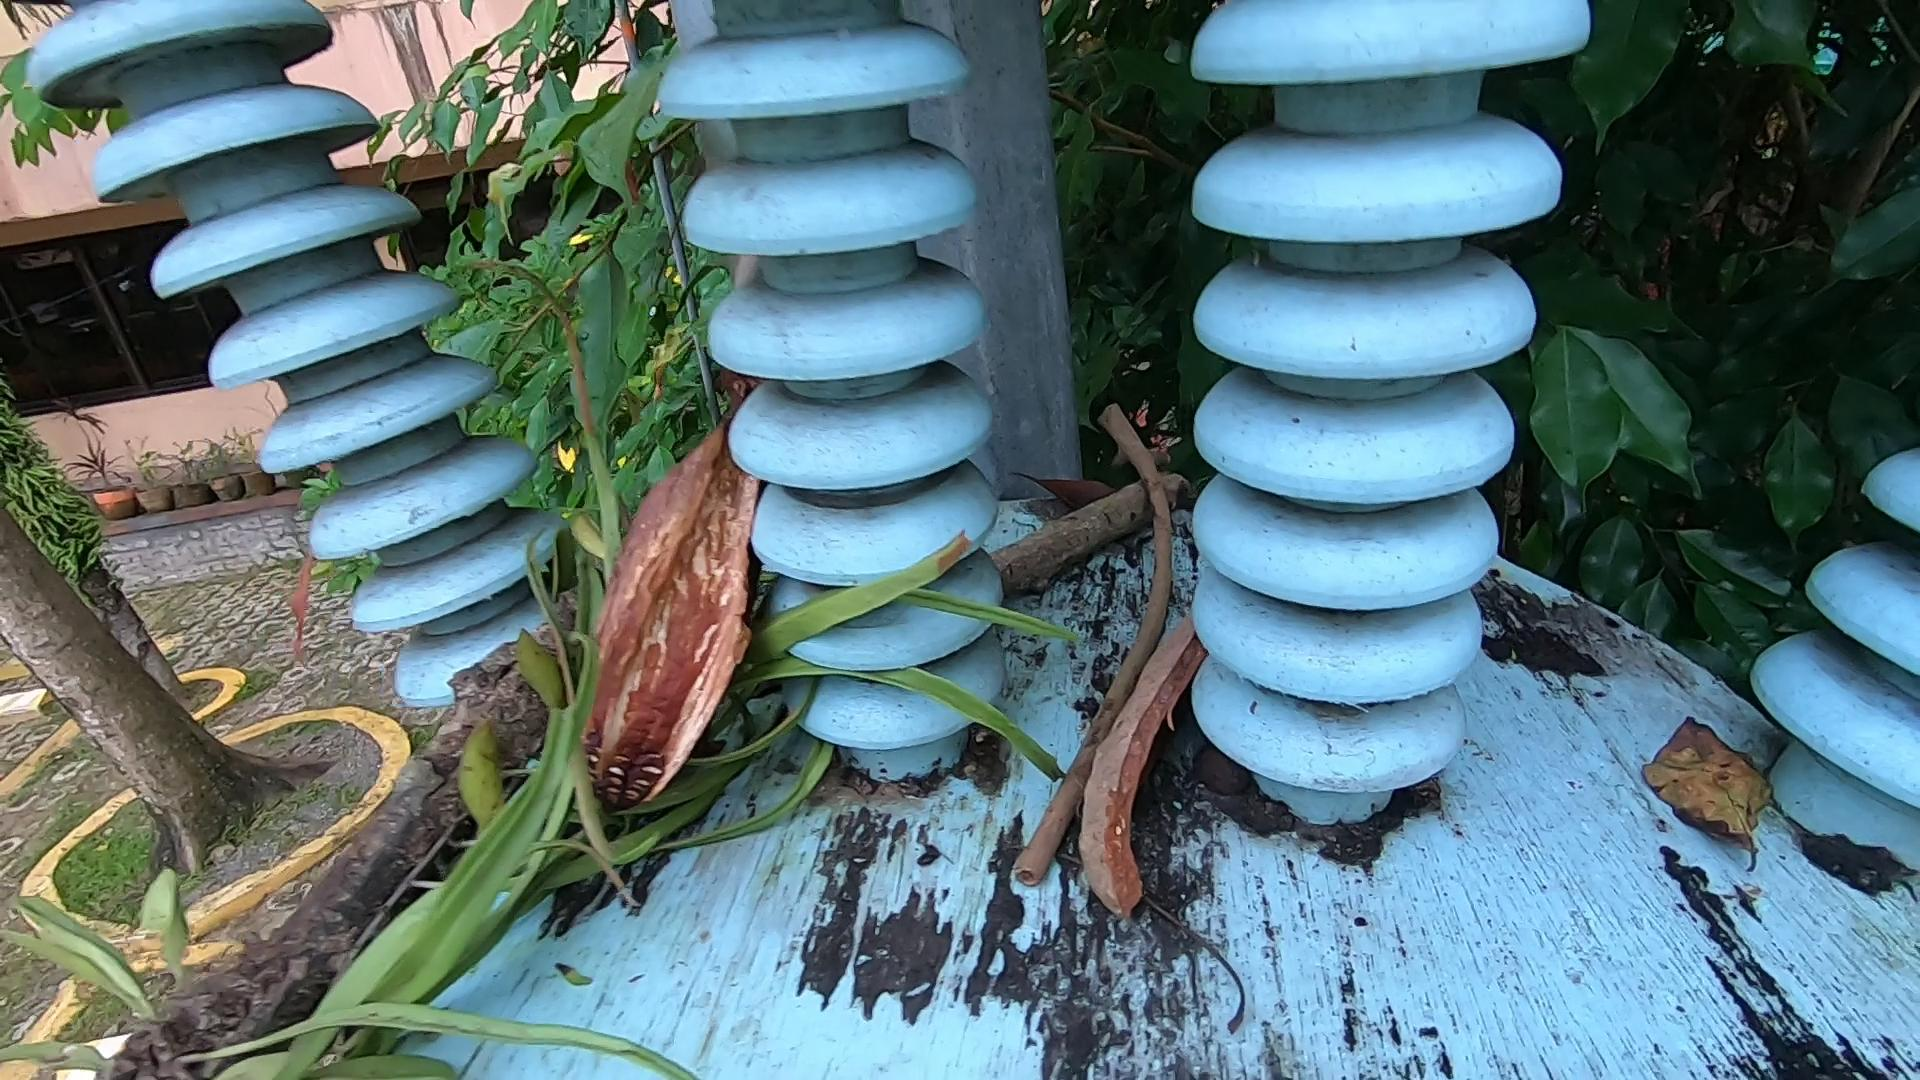branch with leaves: (4, 229, 1063, 1080)
leaf: (1636, 711, 1782, 869)
mahogany fruit: (545, 355, 783, 865), (1073, 560, 1203, 957)
tree branch: (1006, 380, 1187, 880), (986, 463, 1185, 584)
